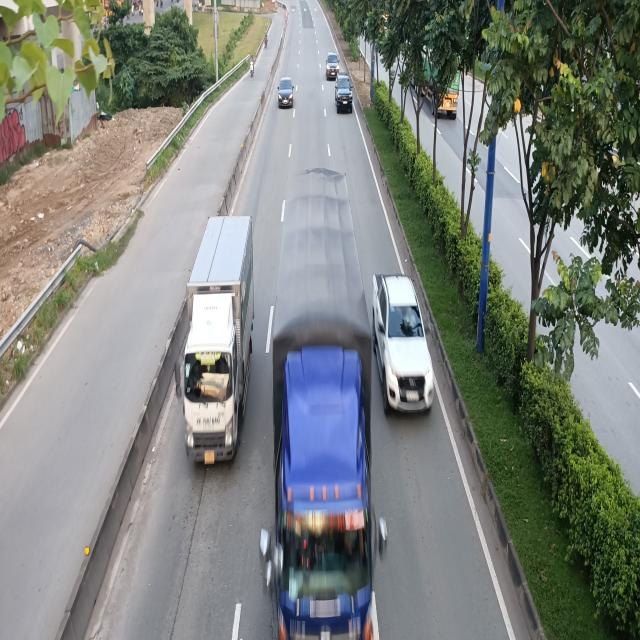car: (373, 274, 436, 422), (336, 73, 354, 113), (278, 76, 294, 107), (325, 54, 340, 80)
truck: (259, 168, 386, 640), (175, 216, 254, 467)
